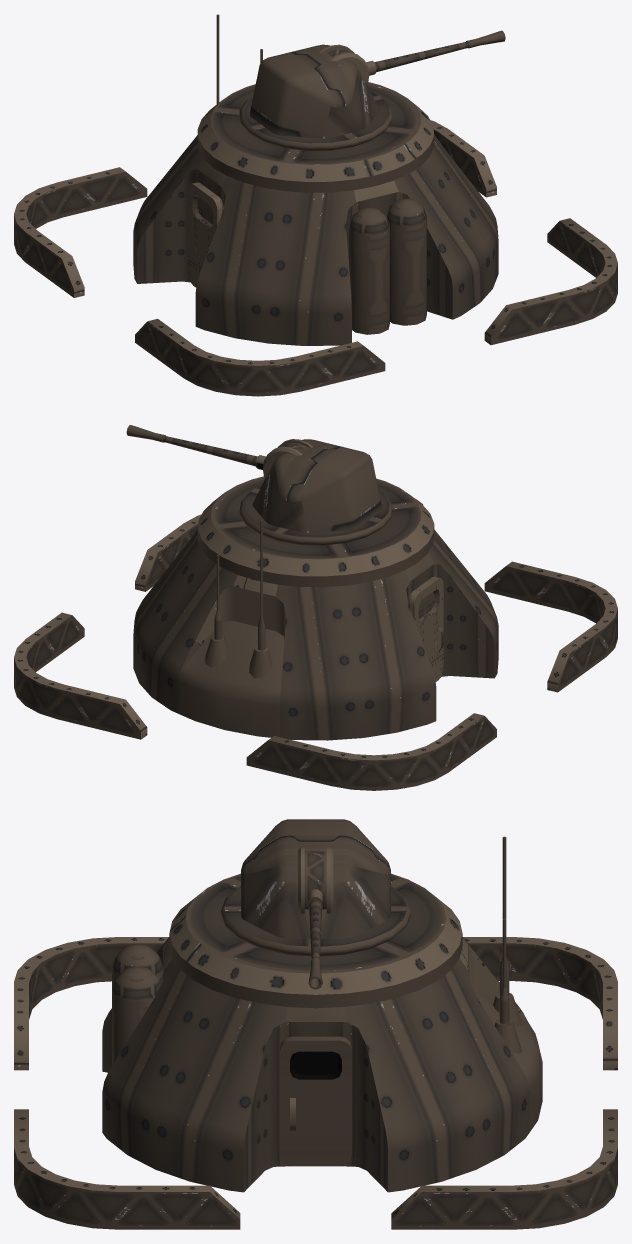
The model's file is Bunker (1).fbx.
3 views of the same model, one above another, from view 1: azimuth 30°, elevation 25°; view 2: azimuth 150°, elevation 25°; view 3: azimuth 270°, elevation 25° (orthographic). The views are drawn at different scales.
Parts seen in each view (by area): view 1: Body, Walls, Tanks, Gunbody, Cylinder, Doors, Gunbarrel; view 2: Body, Walls, Gunbody, Cylinder, Doors, Antenna, Gunbarrel; view 3: Body, Walls, Gunbody, Doors, Cylinder, Tanks, Gunbarrel, Antenna.
Boxes of the visible parts, x1,y1,x2,y2 form: Body: [133, 82, 498, 345]; Walls: [14, 120, 617, 396]; Tanks: [349, 198, 426, 334]; Gunbody: [249, 44, 379, 138]; Cylinder: [239, 91, 392, 150]; Doors: [188, 182, 223, 287]; Gunbarrel: [319, 30, 505, 84]; Body: [133, 476, 498, 740]; Walls: [14, 514, 617, 790]; Gunbody: [252, 439, 382, 532]; Cylinder: [239, 485, 392, 545]; Doors: [408, 576, 443, 681]; Antenna: [205, 520, 272, 678]; Gunbarrel: [126, 425, 312, 478]; Body: [102, 873, 542, 1192]; Walls: [14, 937, 617, 1229]; Gunbody: [241, 819, 390, 938]; Doors: [280, 1036, 351, 1165]; Cylinder: [221, 886, 410, 956]; Tanks: [112, 944, 163, 1065]; Gunbarrel: [298, 847, 333, 989]; Antenna: [493, 836, 522, 1054].
Bounding box in the file's own units: 8 × 3.87 × 8.
